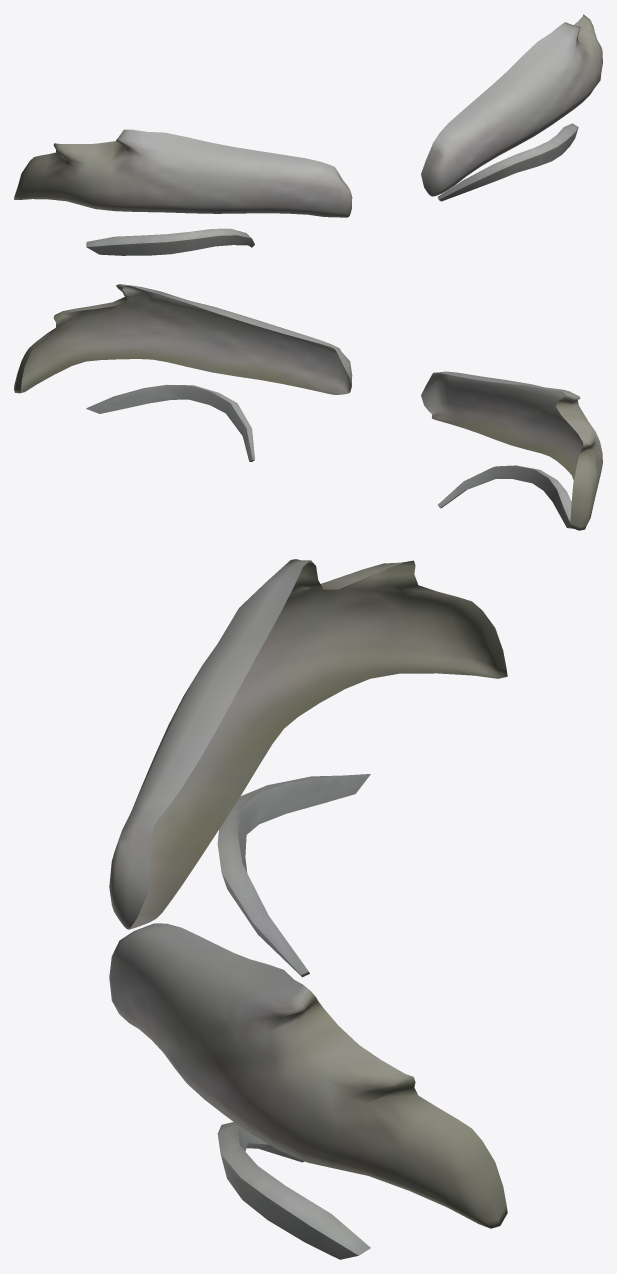
The model's file is Eyebrows_Regular.glb.
3 views of the same model, one above another, from view 1: azimuth 30°, elevation 25°; view 2: azimuth 150°, elevation 25°; view 3: azimuth 270°, elevation 25° (orthographic). The views are drawn at different scales.
Visible parts, largest first — view 1: Eyebrows_Regular; view 2: Eyebrows_Regular; view 3: Eyebrows_Regular.
Boxes of the visible parts, bbox=[...] form: Eyebrows_Regular: bbox=[14, 14, 602, 255]; Eyebrows_Regular: bbox=[14, 284, 602, 530]; Eyebrows_Regular: bbox=[109, 559, 507, 1259].
Bounding box in the file's own units: 0.1247 × 0.0306 × 0.0376.
1 material, 1 textured.
